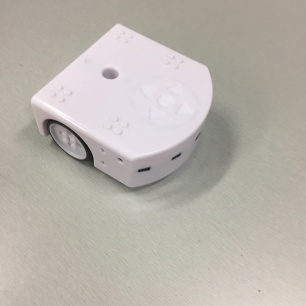thymio: (30, 18, 216, 190)
